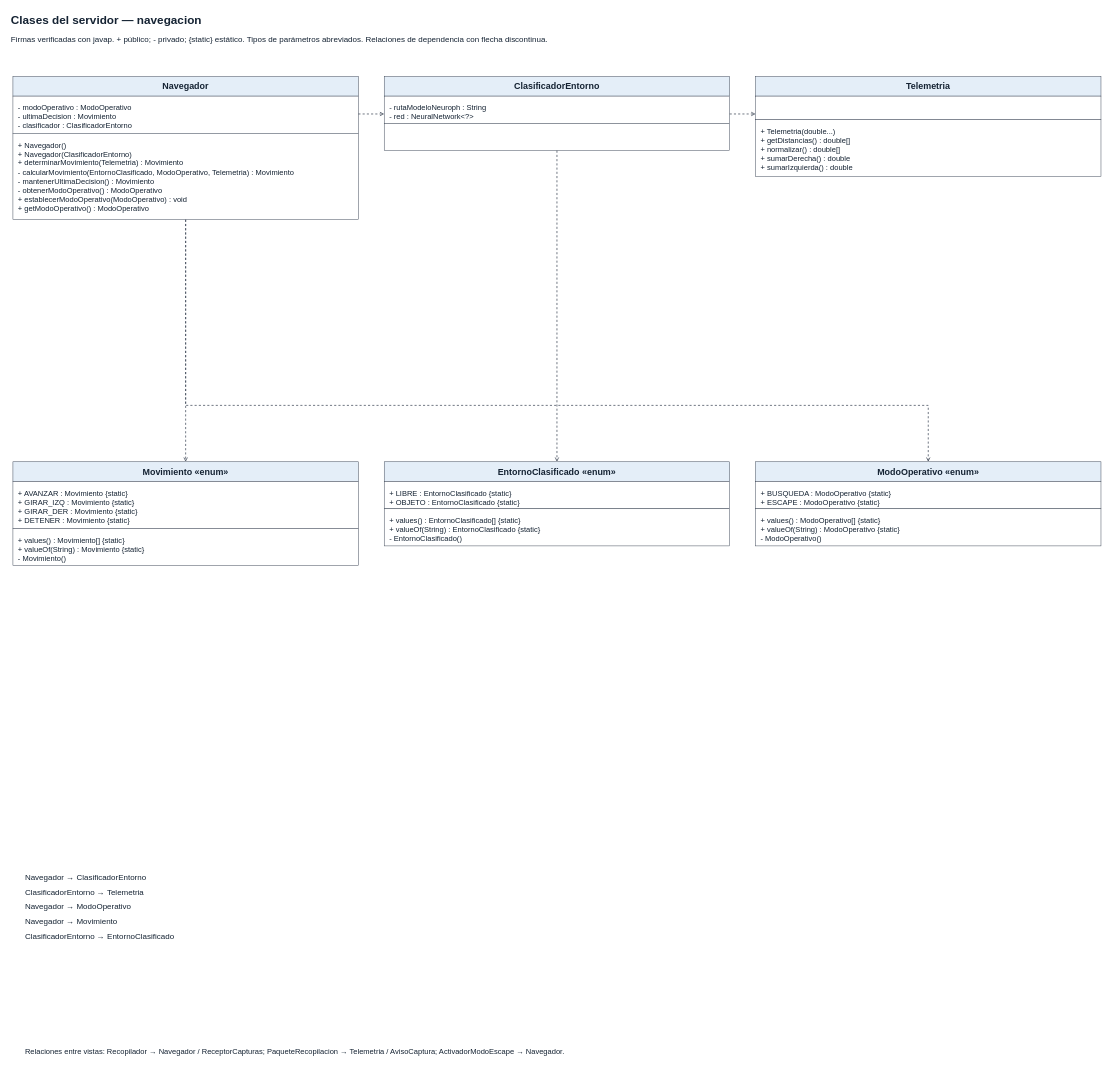
Some shapes in this 1116 by 1074 pixel diagram are drawn without their labels. Here are the shapes that lost their labels. From the top down, the box of each, then its label:
(755, 96, 1101, 120): - distancias : double[]
(384, 123, 730, 151): + ClasificadorEntorno(Path) + clasificarEntorno(Telemetria) : EntornoClasificado
